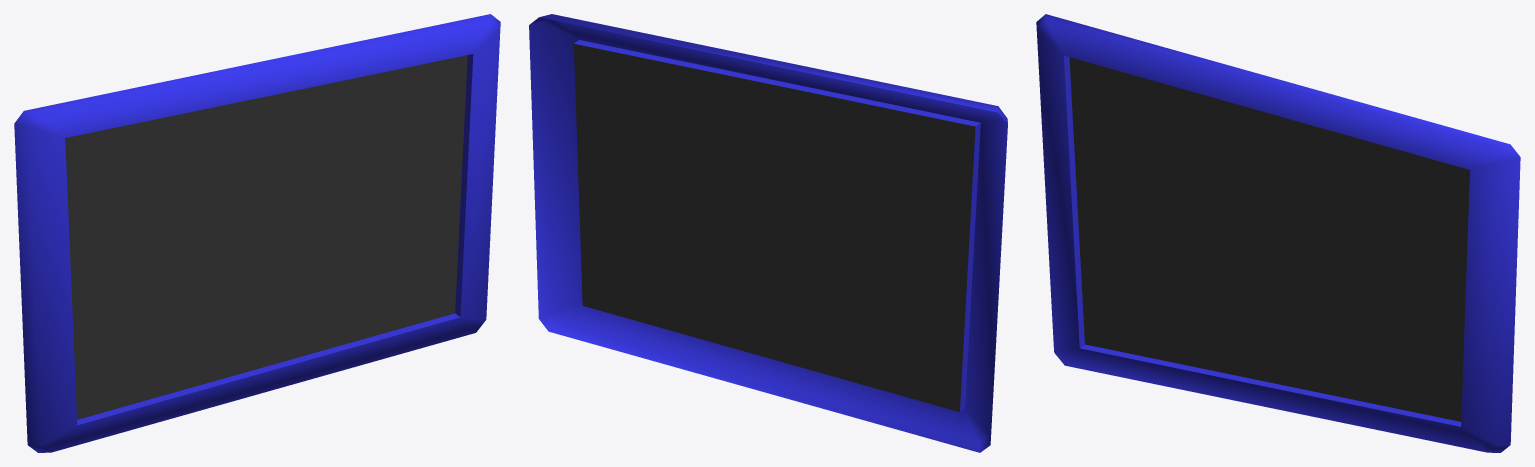
Rendered from Mirror.FBX.
3 views of the same model, side by side, from view 1: azimuth 30°, elevation 25°; view 2: azimuth 150°, elevation 25°; view 3: azimuth 330°, elevation 25° (orthographic).
Parts seen in each view (by area): view 1: Mirror; view 2: Mirror; view 3: Mirror.
Part boxes in pixels (x1=…): Mirror: x1=14, y1=14, x2=500, y2=452; Mirror: x1=529, y1=14, x2=1007, y2=452; Mirror: x1=1036, y1=14, x2=1520, y2=452.
Size of the model in its own units: 4.03 by 2.75 by 0.2002.
